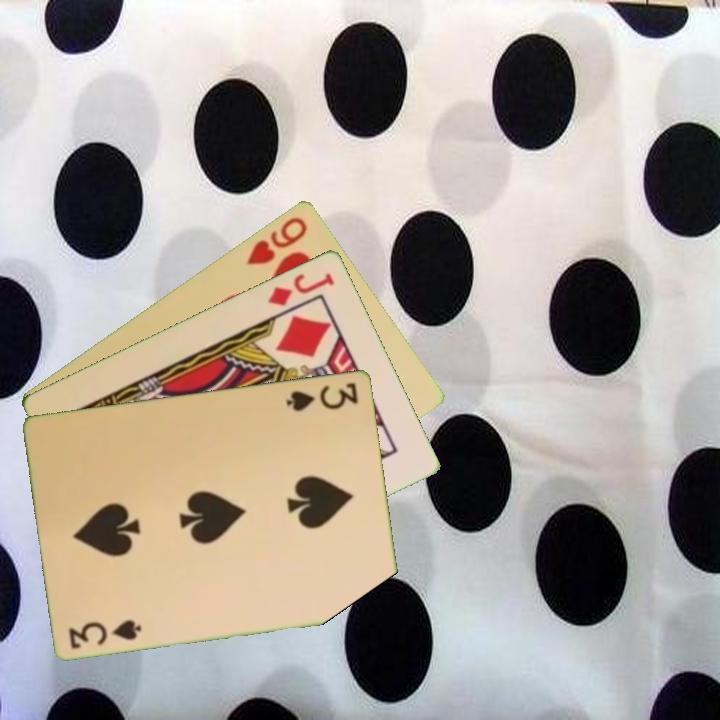3s: (65, 615, 145, 651), (283, 378, 361, 414)
9h: (242, 213, 311, 268)
Jd: (264, 269, 338, 308)
